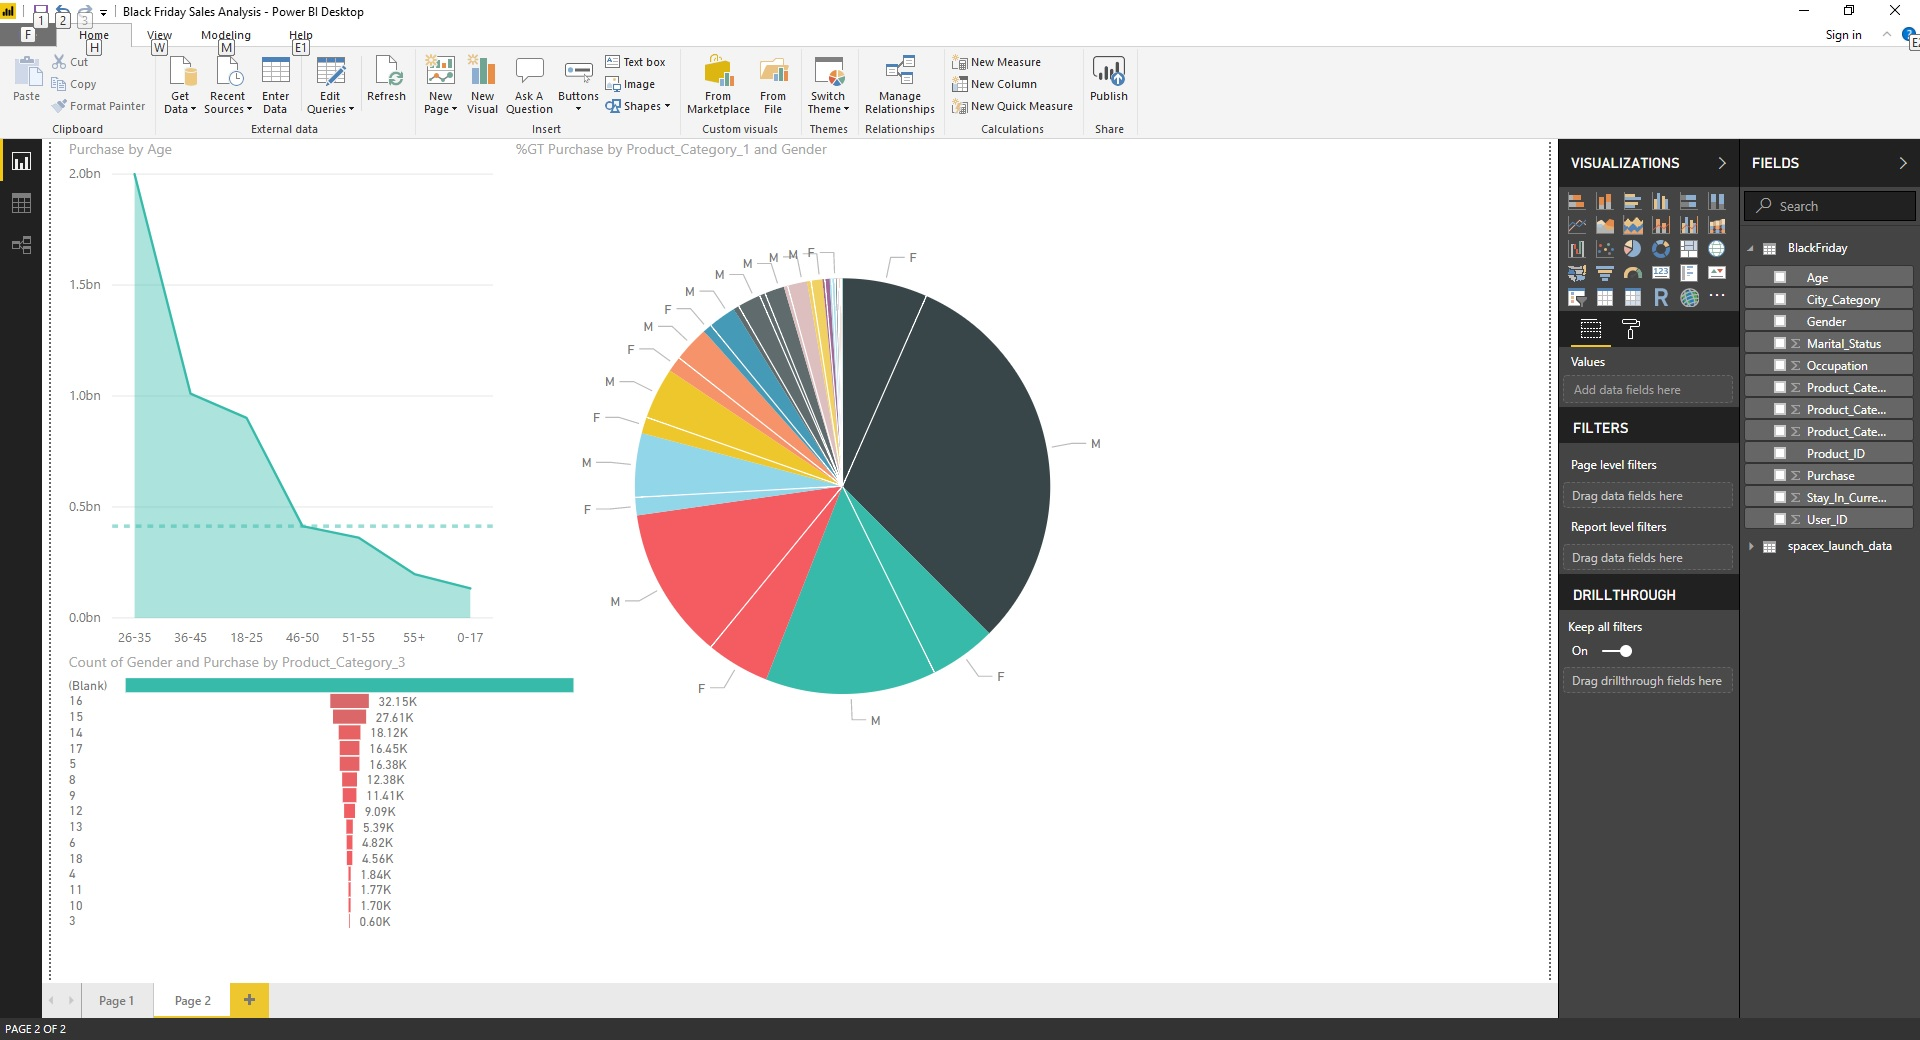

What the dashboard file says about the page in this screenshot:
{"tool":"powerbi","page":{"name":"Page 2","canvas":[1280,720],"ordinal":1},"visuals":[{"type":"areaChart","fields":{"Category":["BlackFriday.Age"],"Y":["Sum(BlackFriday.Purchase)"]},"box":[10.3,0,371.6,438],"z":1},{"type":"pieChart","fields":{"Y":["Divide(Sum(BlackFriday.Purchase), ScopedEval(Sum(BlackFriday.Purchase), []))"],"Series":["BlackFriday.Gender"],"Category":["BlackFriday.Product_Category_1"]},"box":[392,0,568,576.5],"z":3},{"type":"funnel","fields":{"Gradient":["Sum(BlackFriday.Purchase)"],"Category":["BlackFriday.Product_Category_3","BlackFriday.Product_Category_2"],"Y":["CountNonNull(BlackFriday.Gender)"]},"box":[10.2,438.1,445.8,241.7],"z":3}]}

Visuals, with their boxes on the page's 1280x720 design canvas (x1, y1, x2, y2). These are canvas units, not pixel positions in the 1920x1040 screenshot, which may show the page scaled, cropped or inside an application window:
areaChart - BlackFriday.Age x Sum(BlackFriday.Purchase): <bbox>10, 0, 382, 438</bbox>
pieChart - Divide(Sum(BlackFriday.Purchase), ScopedEval(Sum(BlackFriday.Purchase), [])) x BlackFriday.Gender: <bbox>392, 0, 960, 576</bbox>
funnel - Sum(BlackFriday.Purchase) x BlackFriday.Product_Category_3: <bbox>10, 438, 456, 680</bbox>
